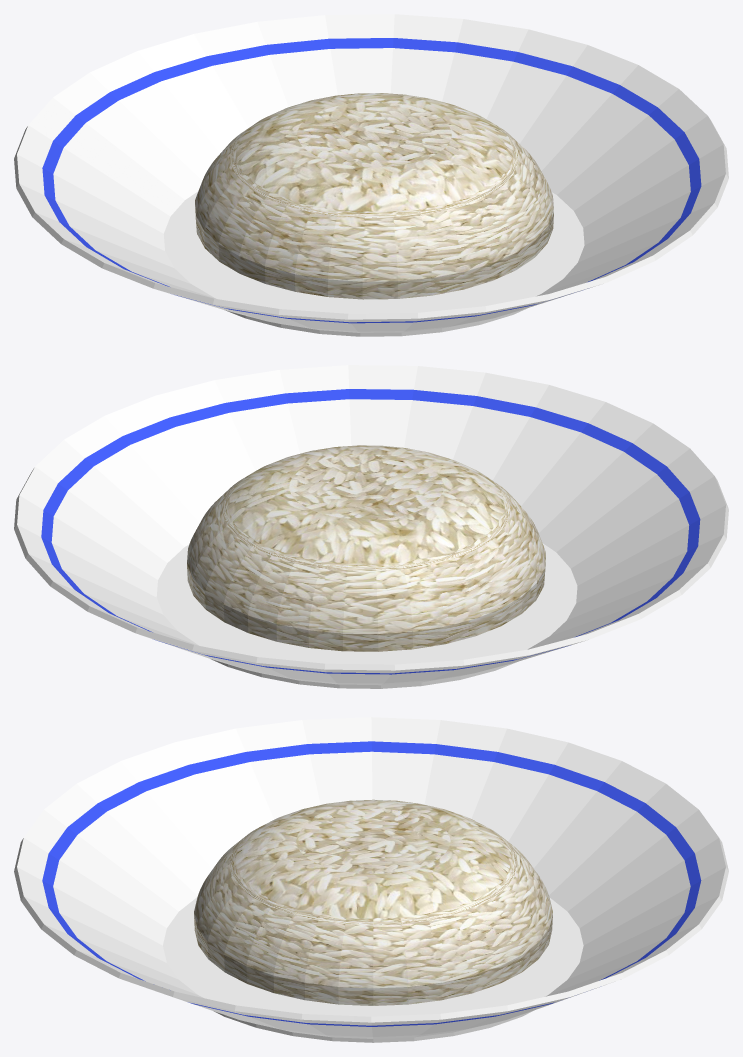
File: DishWithRice.fbx
3 renders of one model, top to bottom at view 1: azimuth 30°, elevation 25°; view 2: azimuth 150°, elevation 25°; view 3: azimuth 270°, elevation 25°, orthographic.
Parts seen in each view (by area): view 1: Dish.001, rice.001; view 2: Dish.001, rice.001; view 3: Dish.001, rice.001.
Boxes of the visible parts, x1,y1,x2,y2 form: Dish.001: [14, 14, 728, 336]; rice.001: [195, 93, 553, 299]; Dish.001: [14, 365, 728, 688]; rice.001: [187, 445, 545, 651]; Dish.001: [14, 717, 728, 1042]; rice.001: [194, 799, 552, 1005].
Bounding box in the file's own units: 413 × 71.89 × 413.
